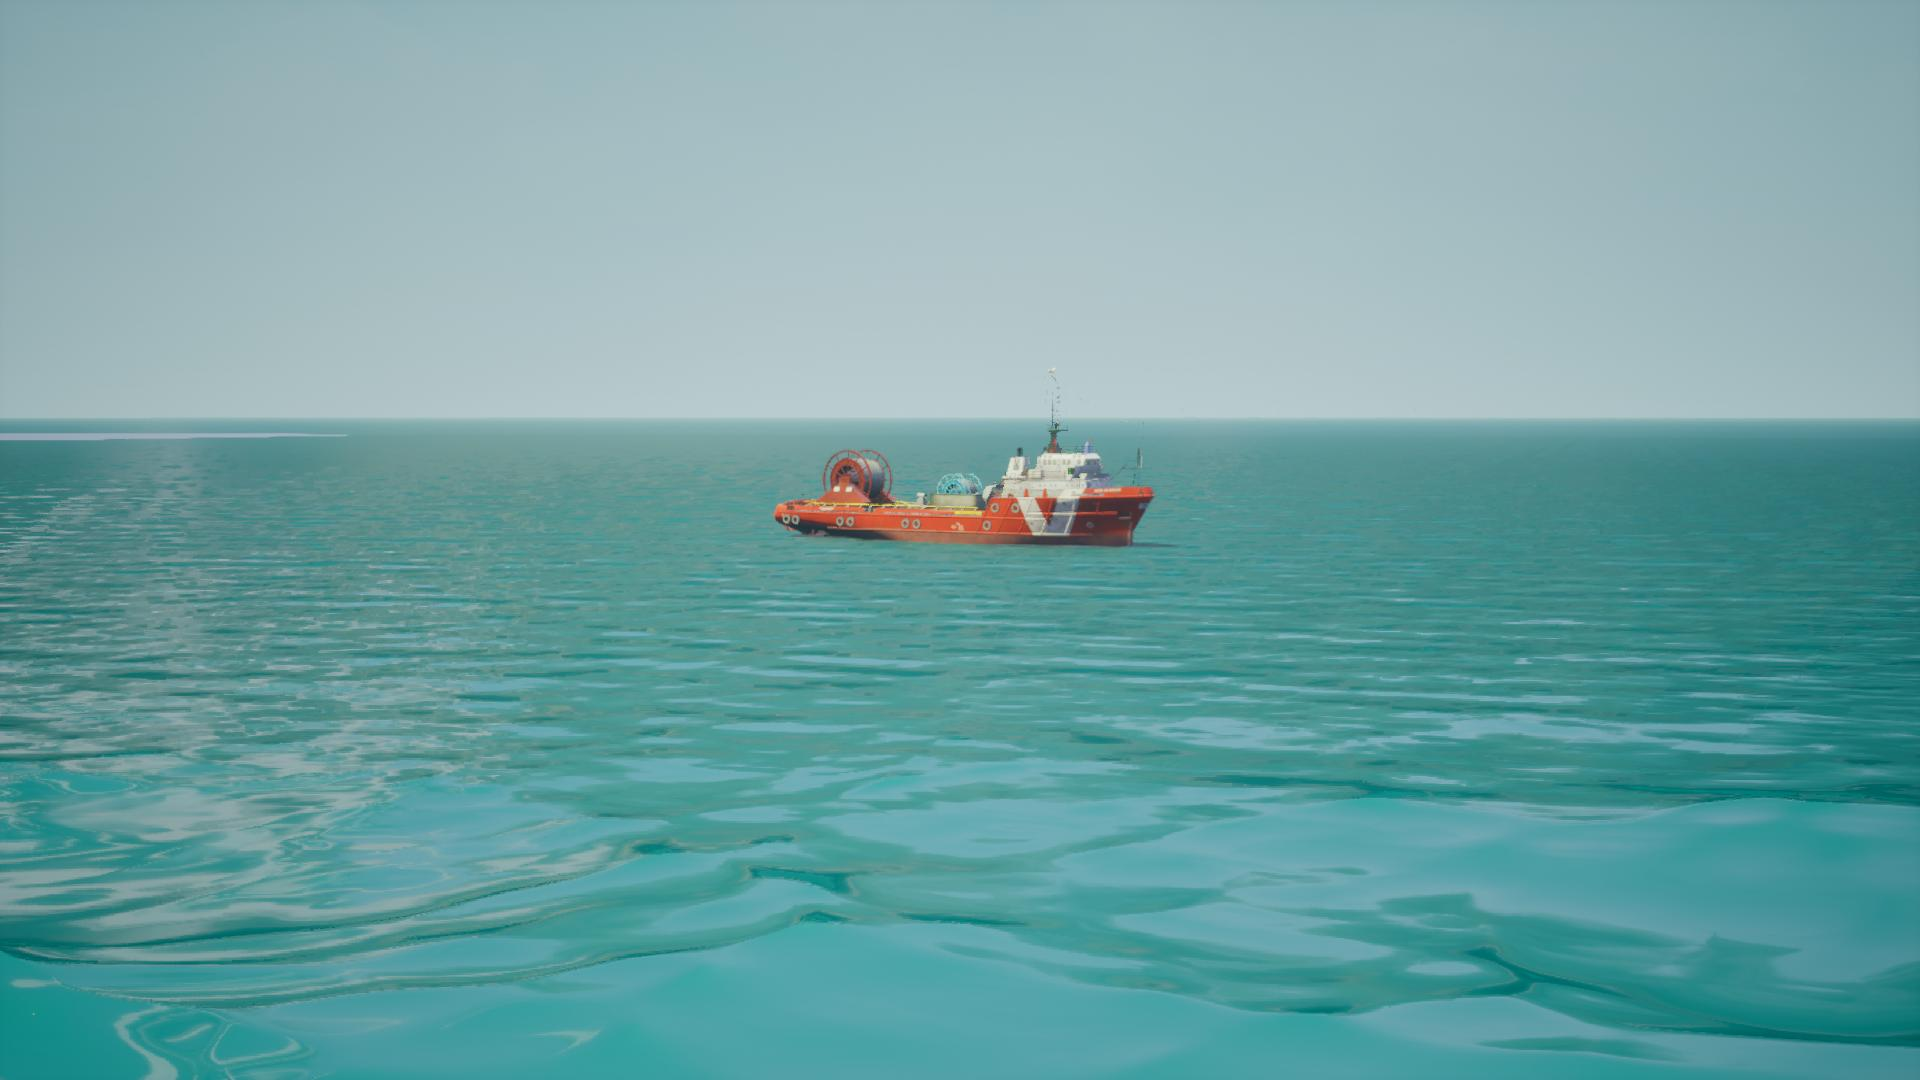Tug Boat: (779, 393, 1152, 549)
